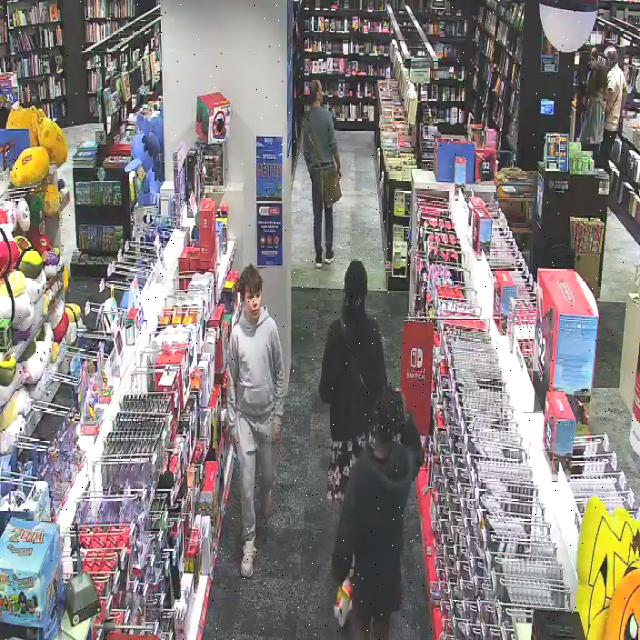article: (333, 580, 352, 627), (231, 435, 237, 455)
bags: (309, 138, 342, 209)
hands: (272, 423, 281, 446), (227, 426, 234, 446)
person: (333, 386, 423, 639), (227, 264, 285, 577), (318, 259, 386, 501), (304, 81, 341, 268)
